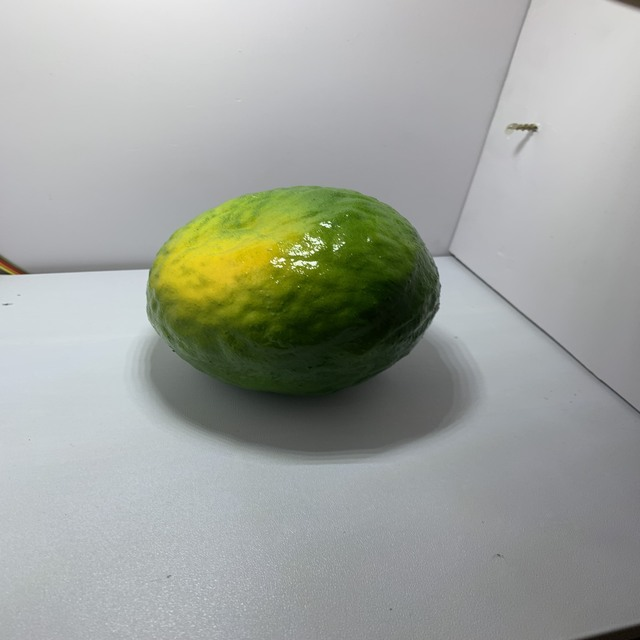Cam xanh: (138, 184, 447, 404)
